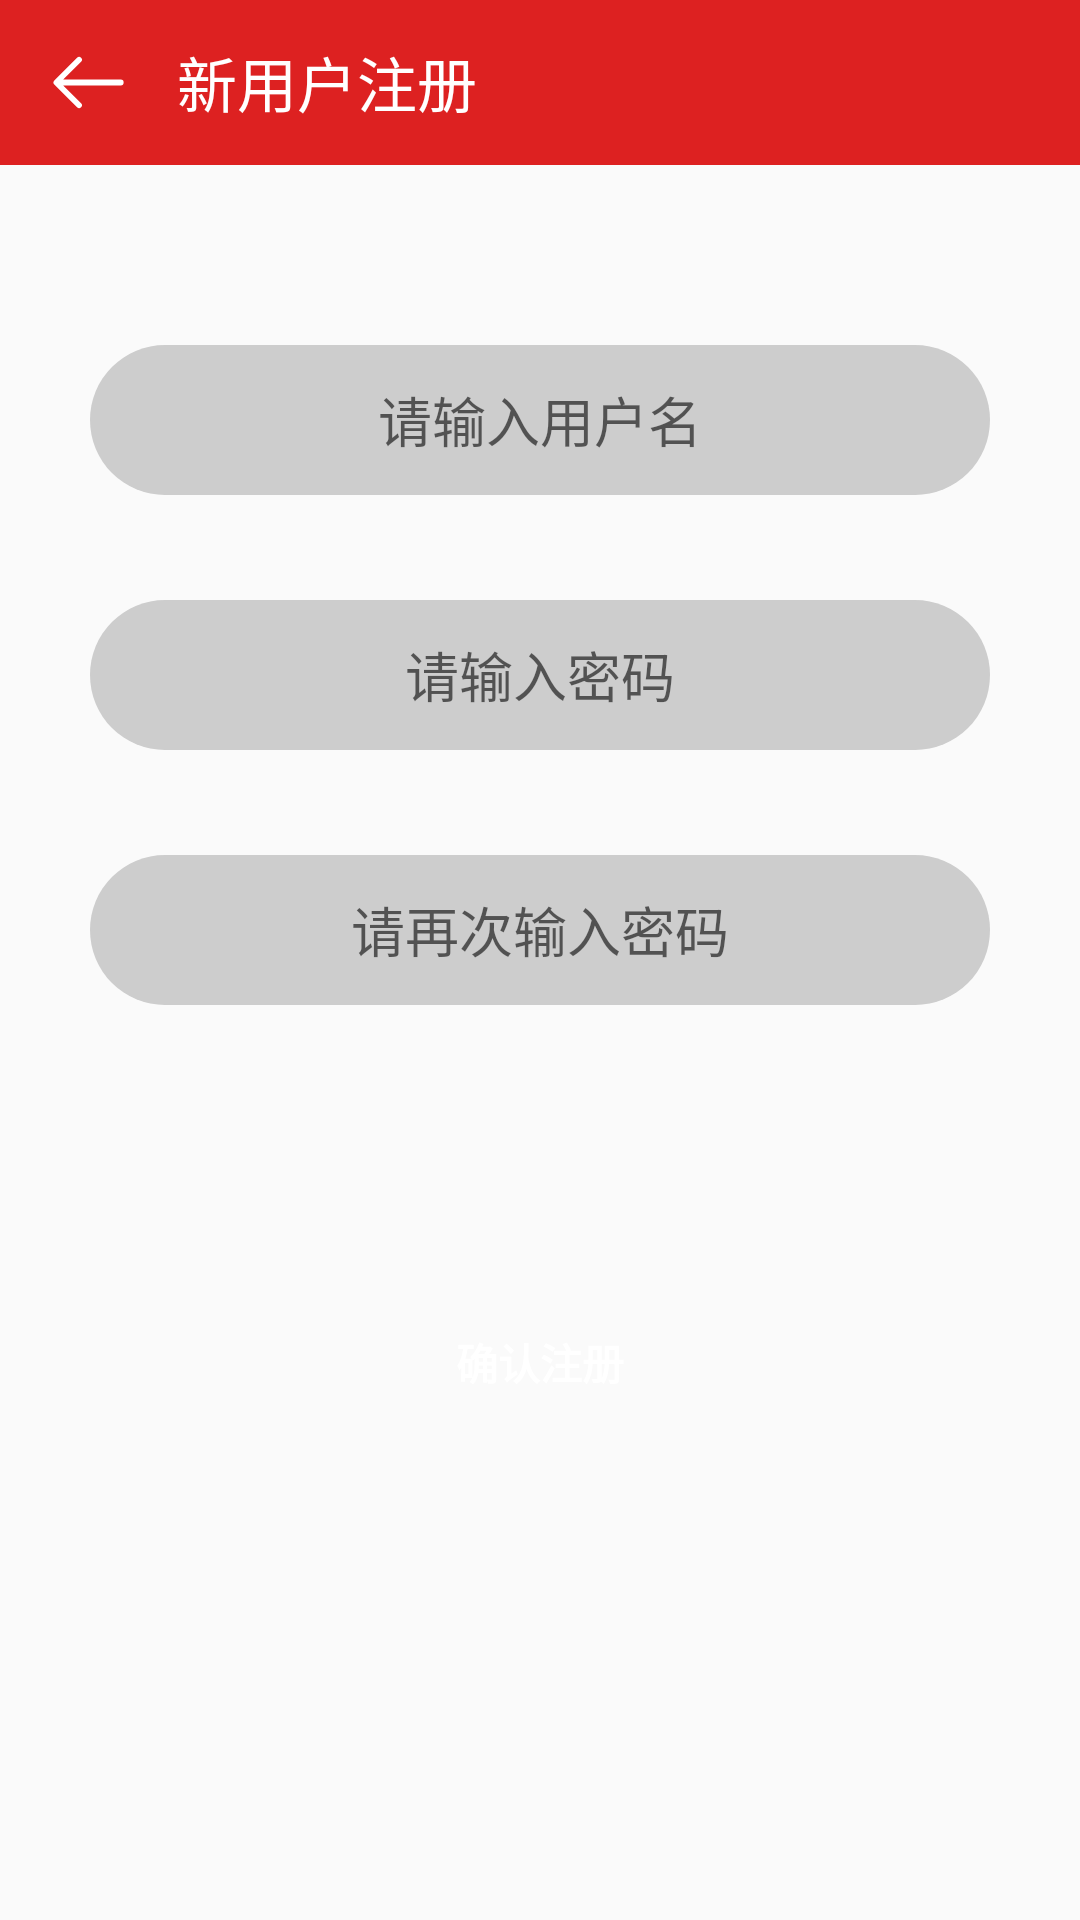

Point at icon controls on the screen. Image size 1080x1920, points as [x,y].
back: [88,82]
